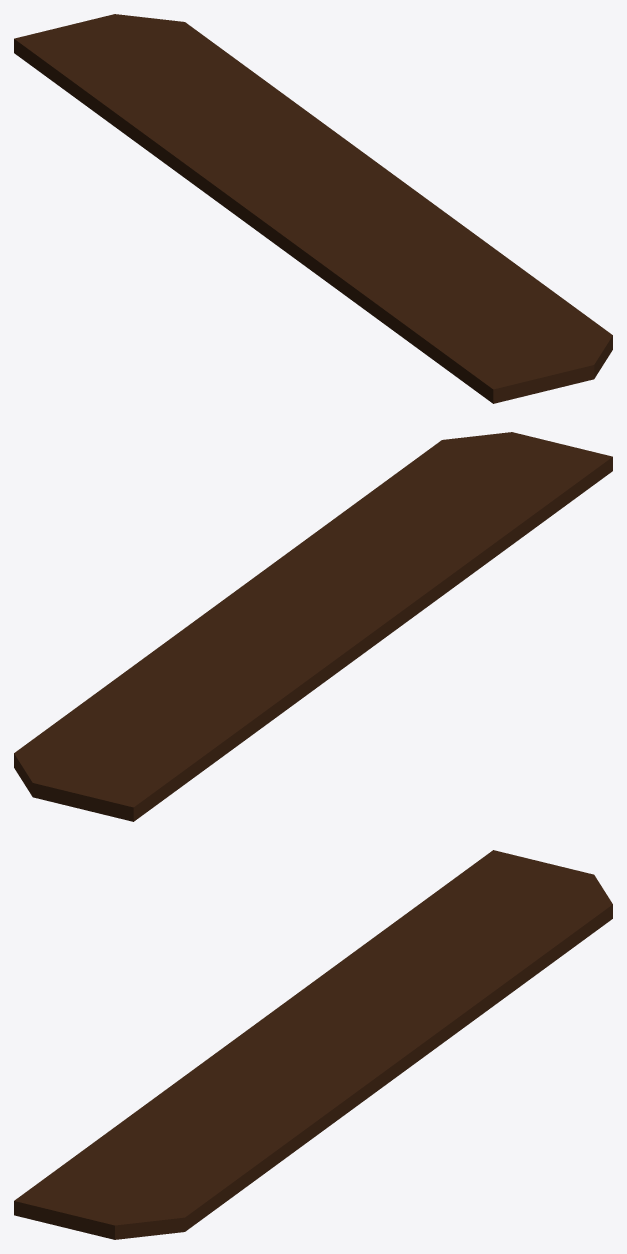
Rendered from EtagereMur1.fbx.
The picture shows the model from 3 angles, top to bottom: view 1: azimuth 30°, elevation 25°; view 2: azimuth 150°, elevation 25°; view 3: azimuth 330°, elevation 25°; orthographic projection.
Parts seen in each view (by area): view 1: EtagereMur1; view 2: EtagereMur1; view 3: EtagereMur1.
Part boxes in pixels (x1,y1,x2,y2): EtagereMur1: [14, 14, 612, 403]; EtagereMur1: [14, 432, 612, 821]; EtagereMur1: [14, 850, 612, 1239].
Size of the model in its own units: 35.01 by 3.32 by 200.
